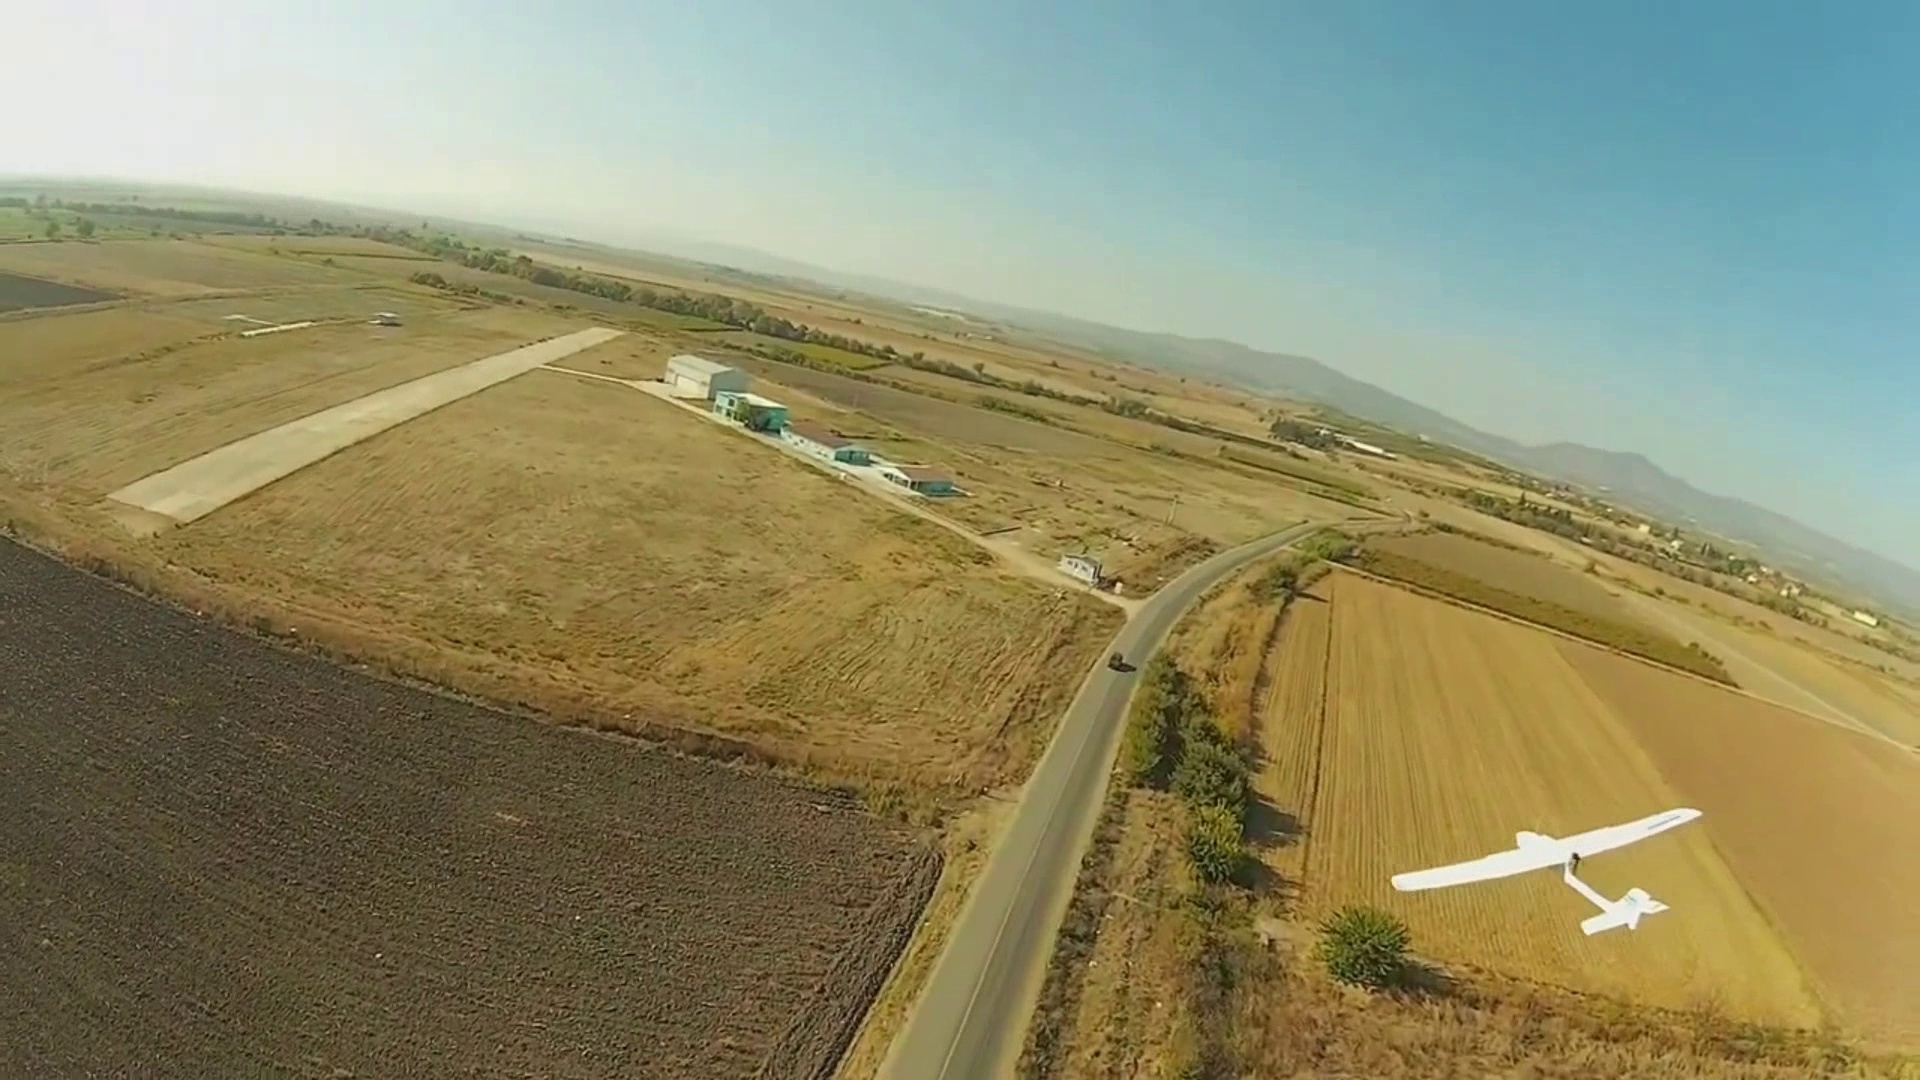airplane: (1389, 808, 1705, 942)
